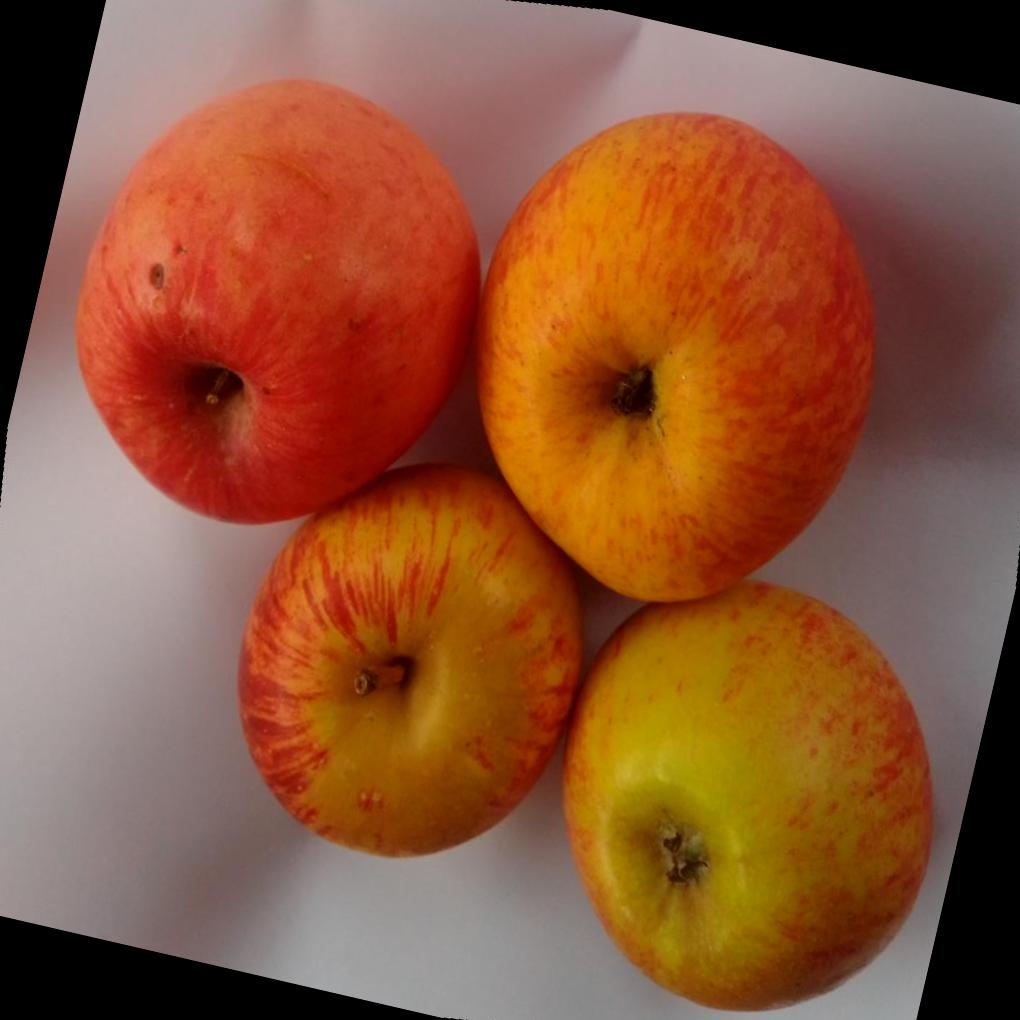FreshGuava: (70, 75, 931, 1013)
